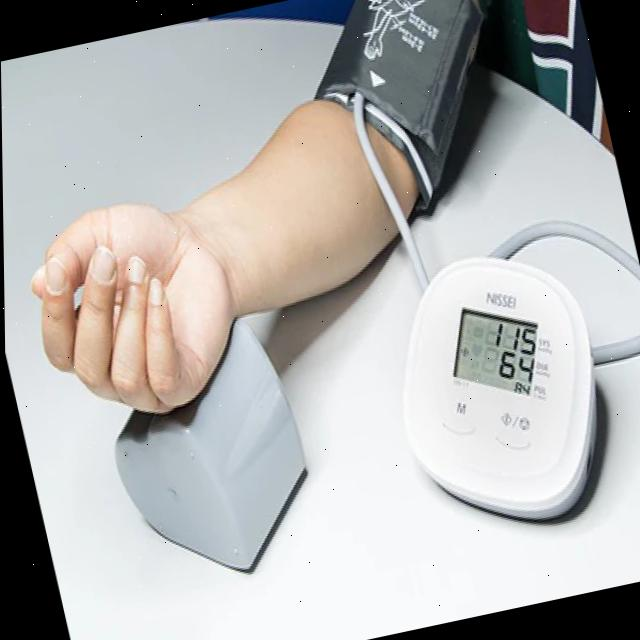dia: (491, 347, 537, 385)
pul: (507, 379, 532, 401)
ssd: (445, 308, 545, 400)
sys: (488, 315, 540, 356)
